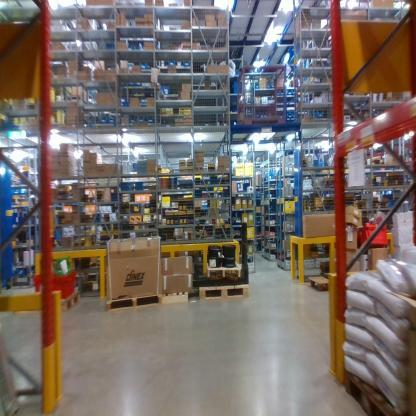pallets: (343, 372, 408, 415), (104, 293, 160, 312), (196, 284, 249, 302), (303, 274, 329, 291)
